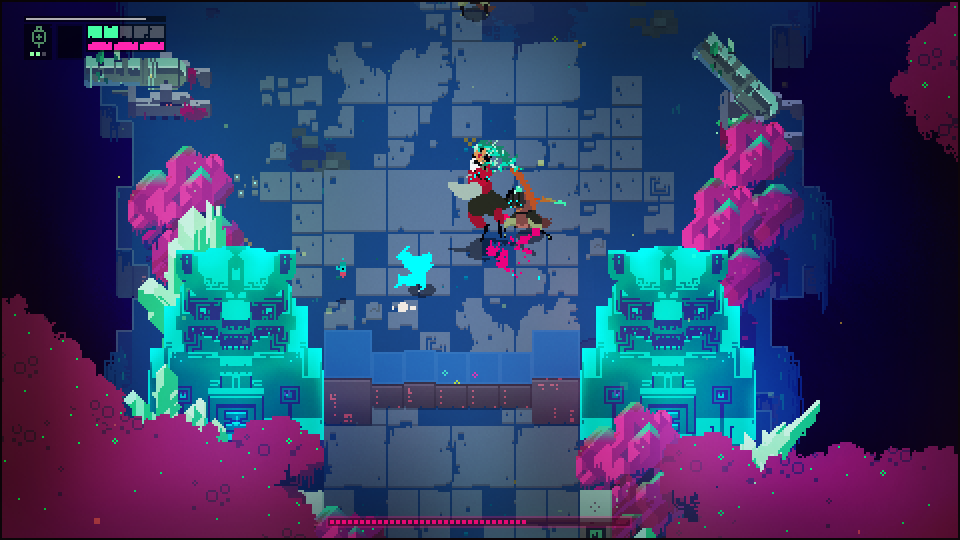hanged_man: (447, 138, 542, 241)
